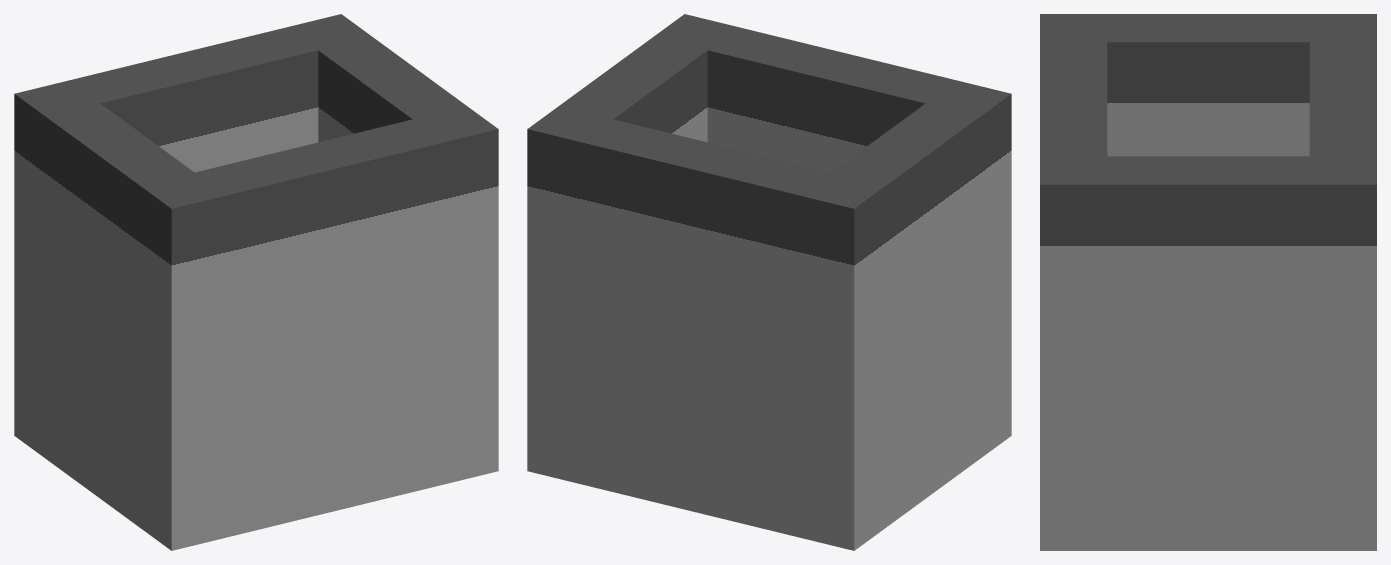
File: obj_trashcan1.fbx
The picture shows the model from 3 angles, left to right: view 1: azimuth 30°, elevation 25°; view 2: azimuth 150°, elevation 25°; view 3: azimuth 270°, elevation 25°; orthographic projection. The views are drawn at different scales.
Parts seen in each view (by area): view 1: obj_trashcan1; view 2: obj_trashcan1; view 3: obj_trashcan1.
Boxes of the visible parts, x1,y1,x2,y2 form: obj_trashcan1: (14, 14, 498, 550); obj_trashcan1: (527, 14, 1011, 550); obj_trashcan1: (1040, 14, 1376, 550).
Size of the model in its own units: 0.6 by 0.5 by 0.6.
Materials: 1 (1 with a texture image).
